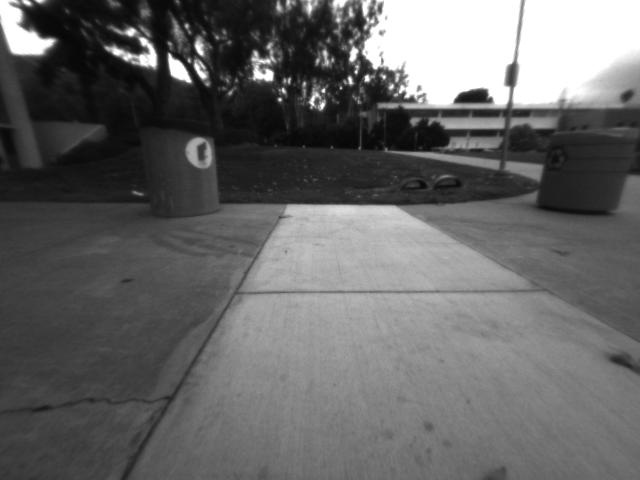trashcan: (526, 113, 638, 230), (129, 105, 232, 222)
